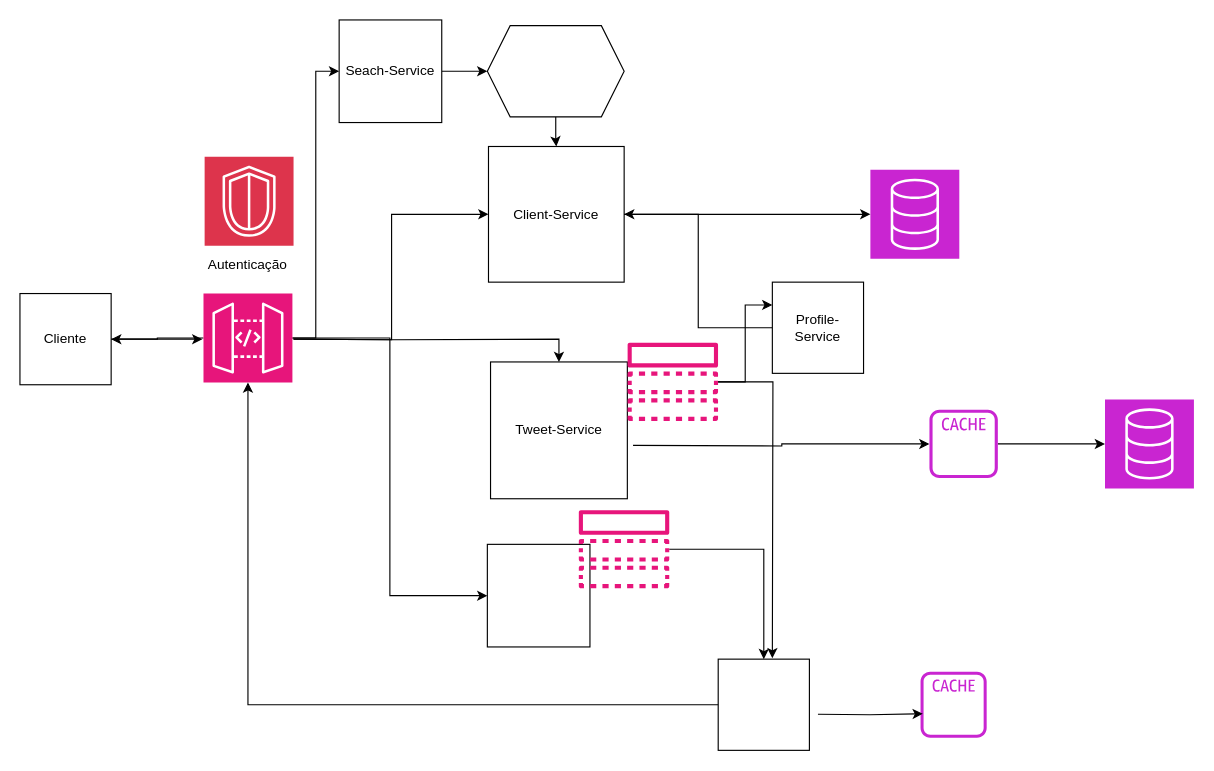
Image size: 1214x771. Some labels were removed from this diagram. The centre of each missing label's shape, as x and y in pixels:
Elastic-Serach: the point at 555,71
Feed-Service: the point at 763,704
Follow-Service: the point at 538,595
